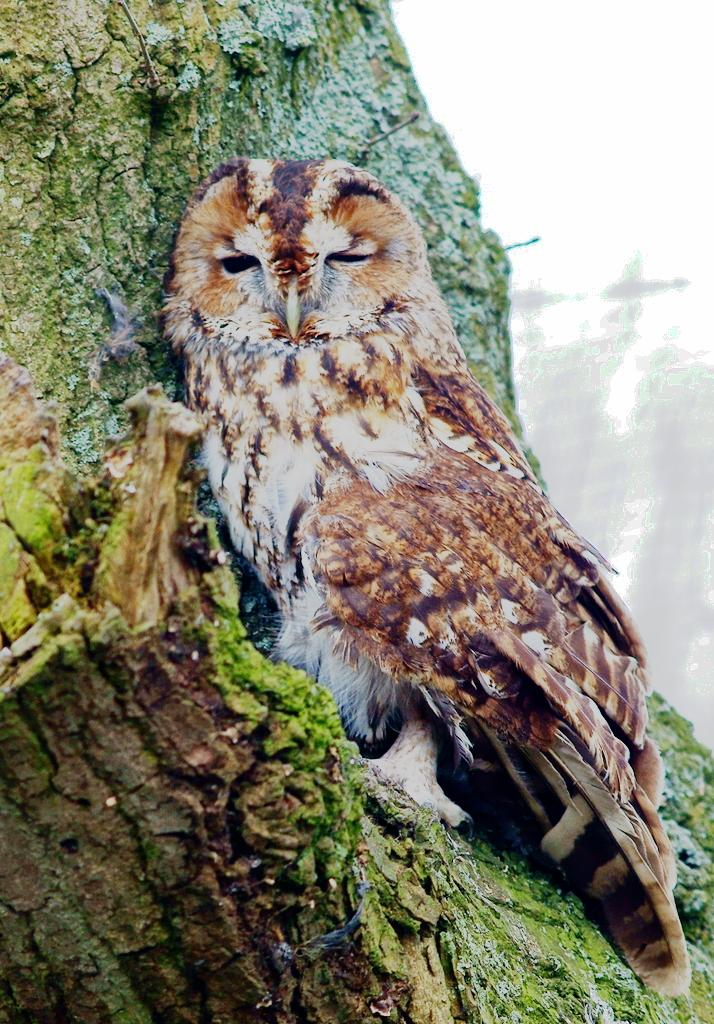Owl: (166, 155, 695, 998)
